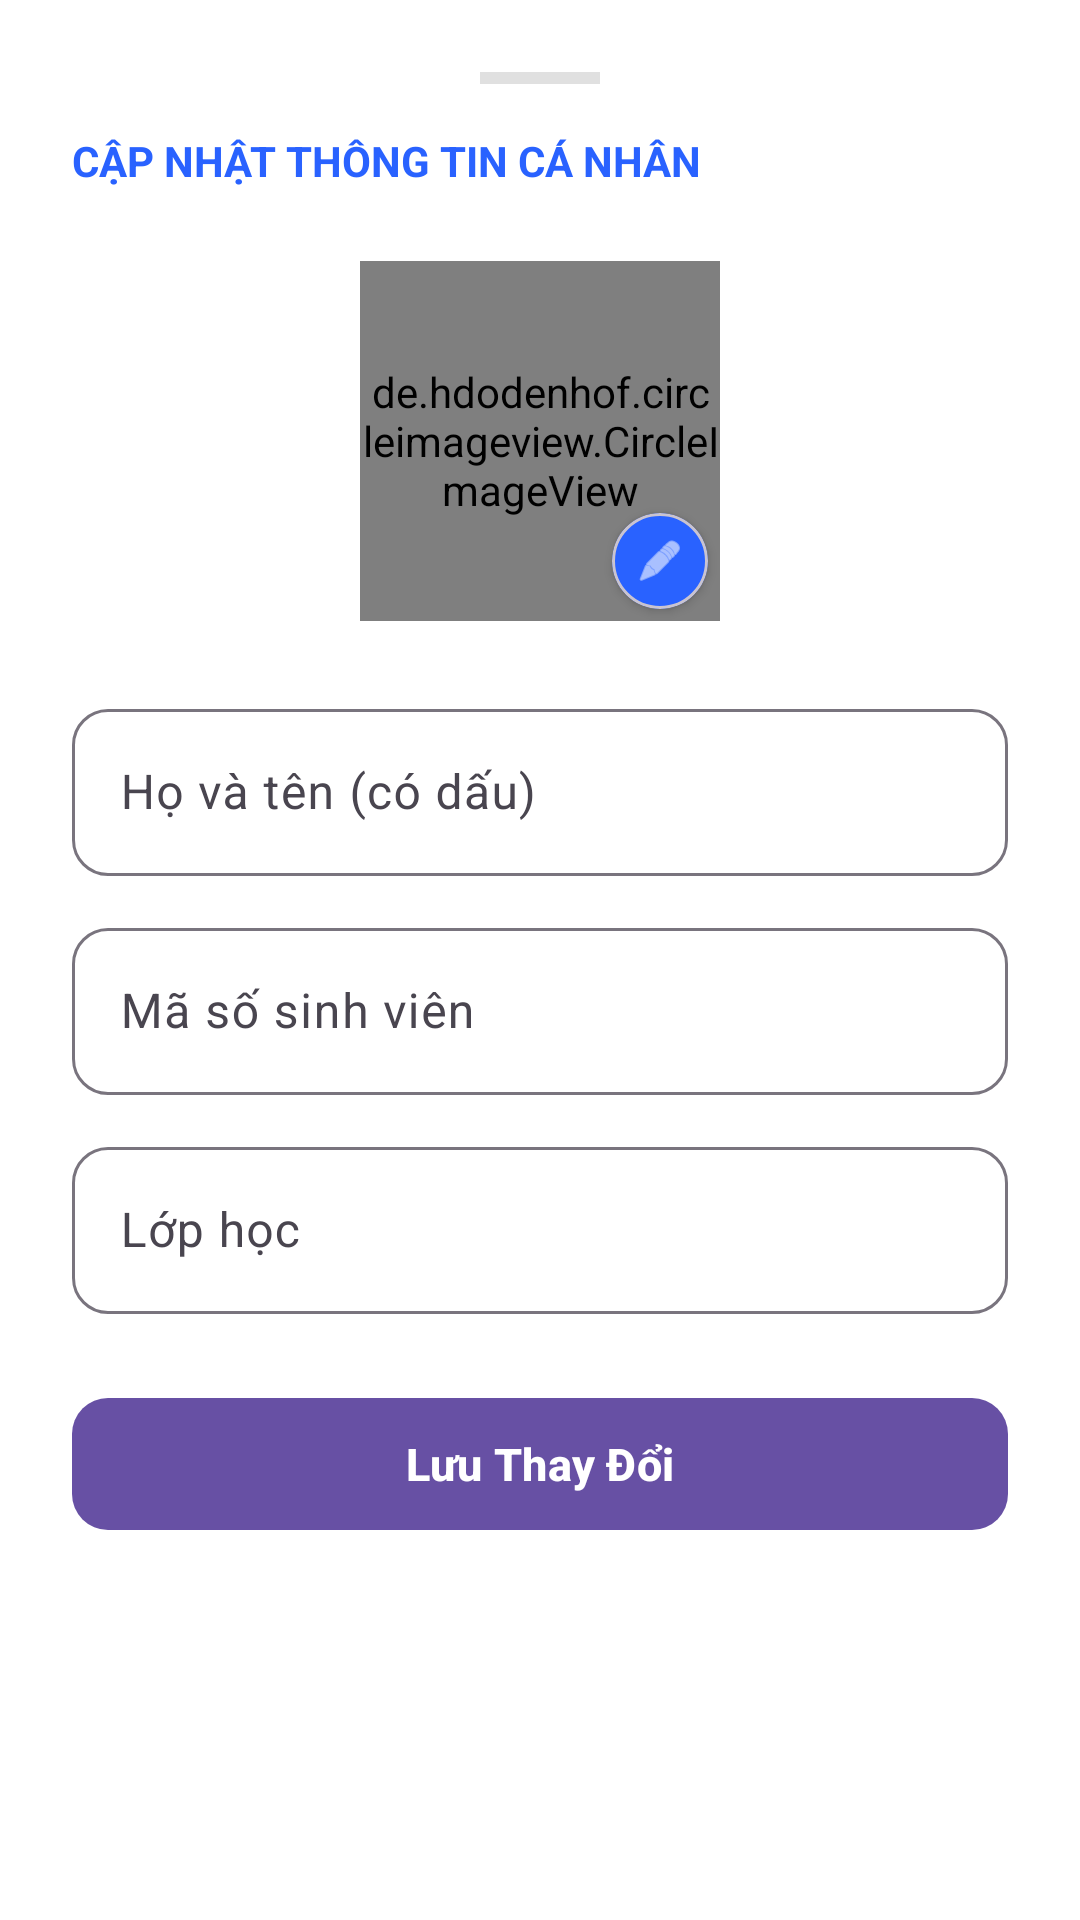

Screen size 1080w x 1920h. Icon name, then its center in pixels as (x,y):
edit: (660,561)
